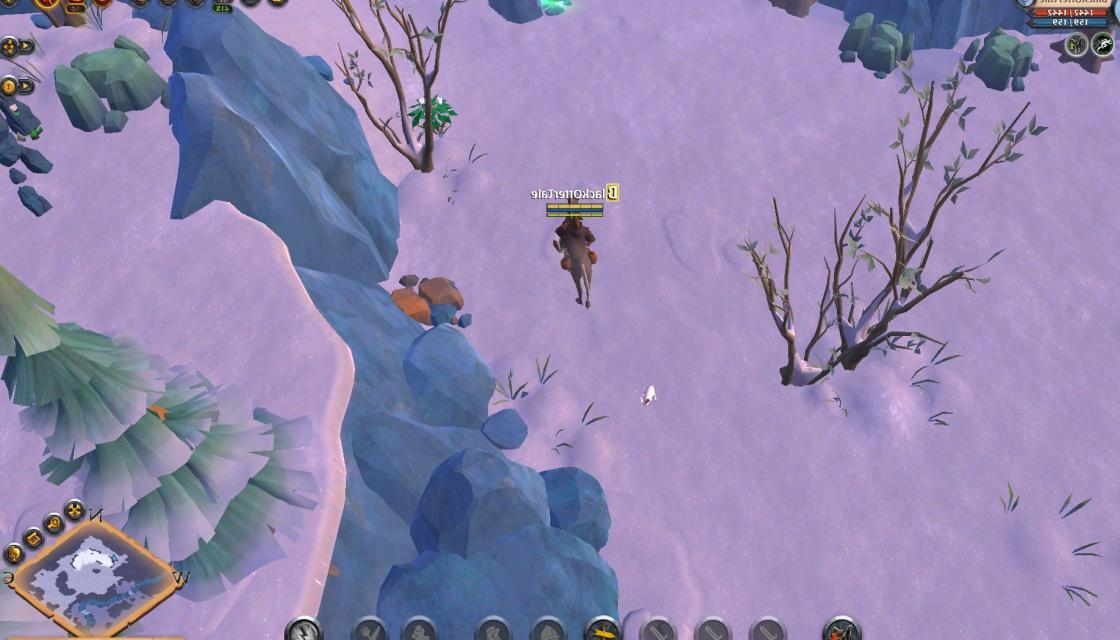limestone: (386, 270, 464, 330)
sandstone: (53, 34, 161, 144), (834, 10, 920, 80), (964, 24, 1040, 98)
